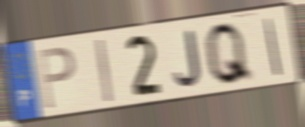2: (126, 33, 163, 98)
I: (94, 37, 115, 105), (263, 17, 283, 78)
J: (172, 28, 203, 90)
P: (35, 44, 77, 112)
Q: (203, 20, 255, 88)
